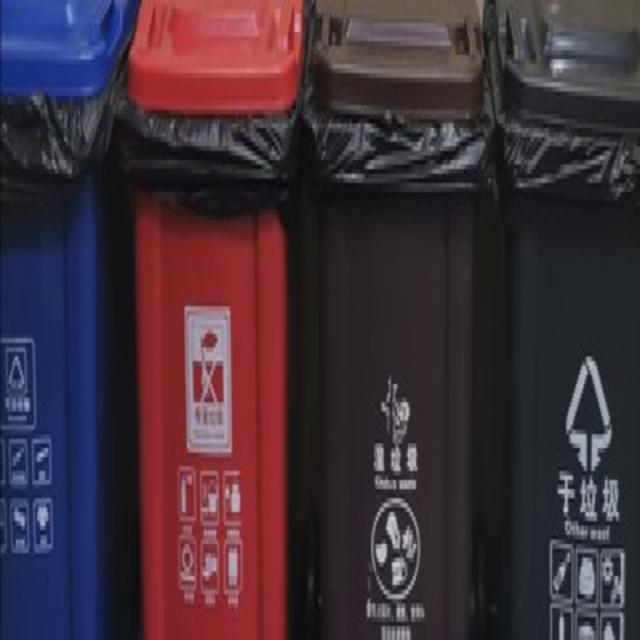ash bin: (305, 0, 489, 635), (126, 4, 302, 636), (492, 4, 638, 636), (1, 0, 124, 626)
